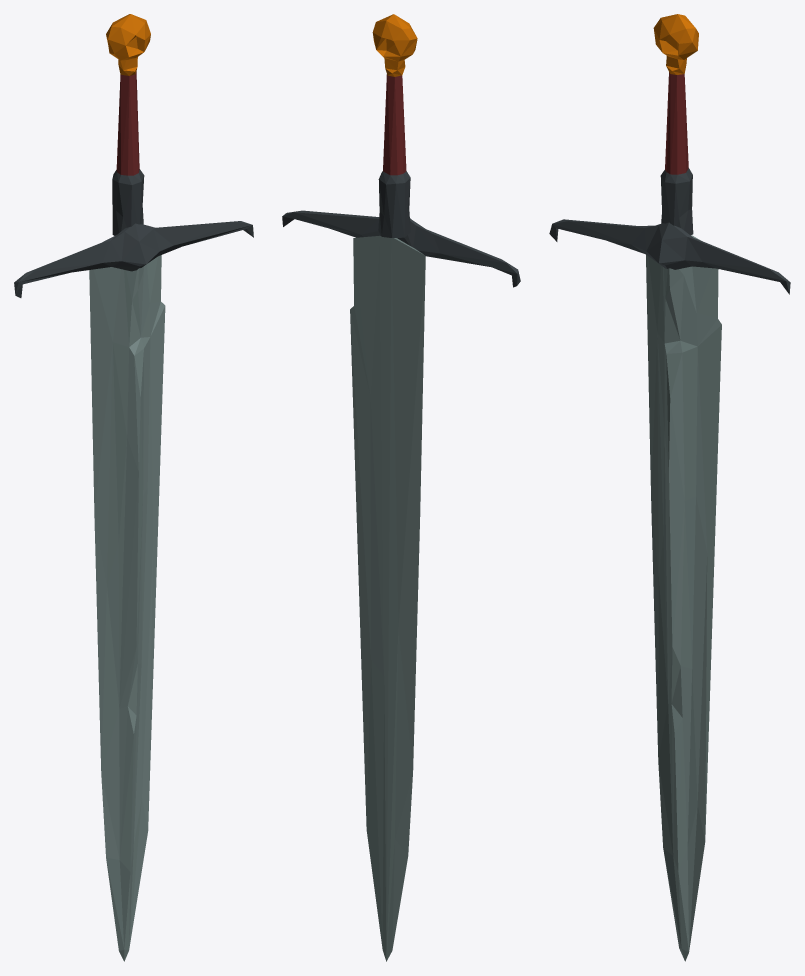
The model's file is MDungeon_Sword_01.FBX.
The picture shows the model from 3 angles, left to right: view 1: azimuth 30°, elevation 25°; view 2: azimuth 150°, elevation 25°; view 3: azimuth 330°, elevation 25°; orthographic projection.
Visible parts, largest first — view 1: MDungeon_Sword_01_LOD0; view 2: MDungeon_Sword_01_LOD0; view 3: MDungeon_Sword_01_LOD0.
Part boxes in pixels (x1,y1,x2,y2): MDungeon_Sword_01_LOD0: [14, 14, 253, 961]; MDungeon_Sword_01_LOD0: [282, 14, 520, 961]; MDungeon_Sword_01_LOD0: [549, 14, 790, 961].
Size of what is drawn, in the model's own units: 0.4098 by 1.56 by 0.078.
Materials: 1 (1 with a texture image).
